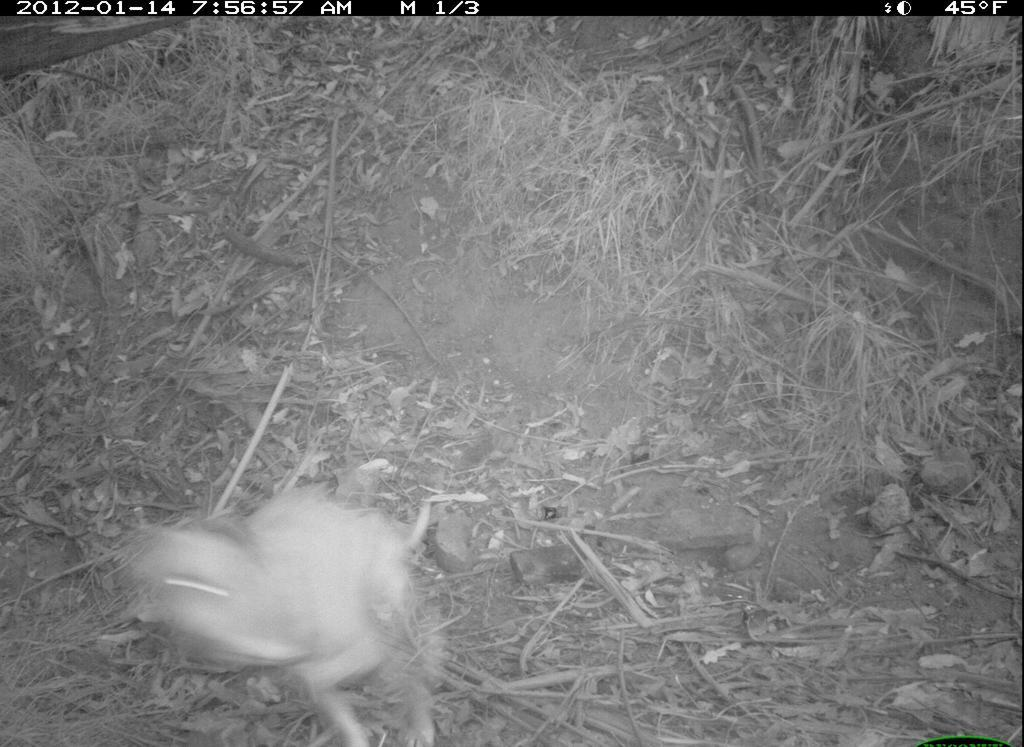dog: (121, 477, 455, 747)
